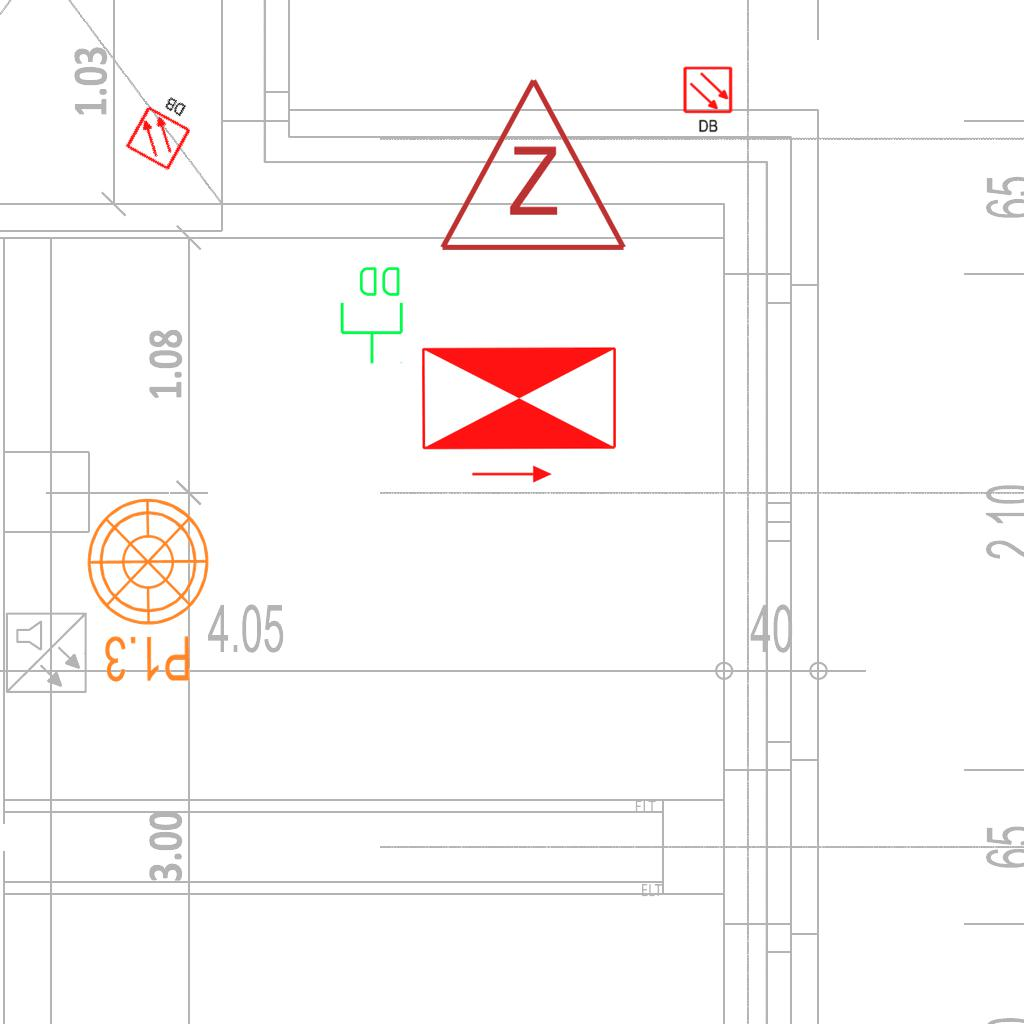Aufbaurundleuchte_LED_Treppenhaus: (73, 495, 212, 700)
DB_Melder_in_Doppelboden_mit_Revisionsoeffnung_mind_40_x_40_cm: (119, 82, 206, 176), (680, 63, 737, 137)
Datenanschluss_zweifach: (338, 263, 407, 366)
Fluchtwegpiktogramm: (415, 341, 623, 488)
Zimmersignalleuchte: (433, 65, 629, 265)
